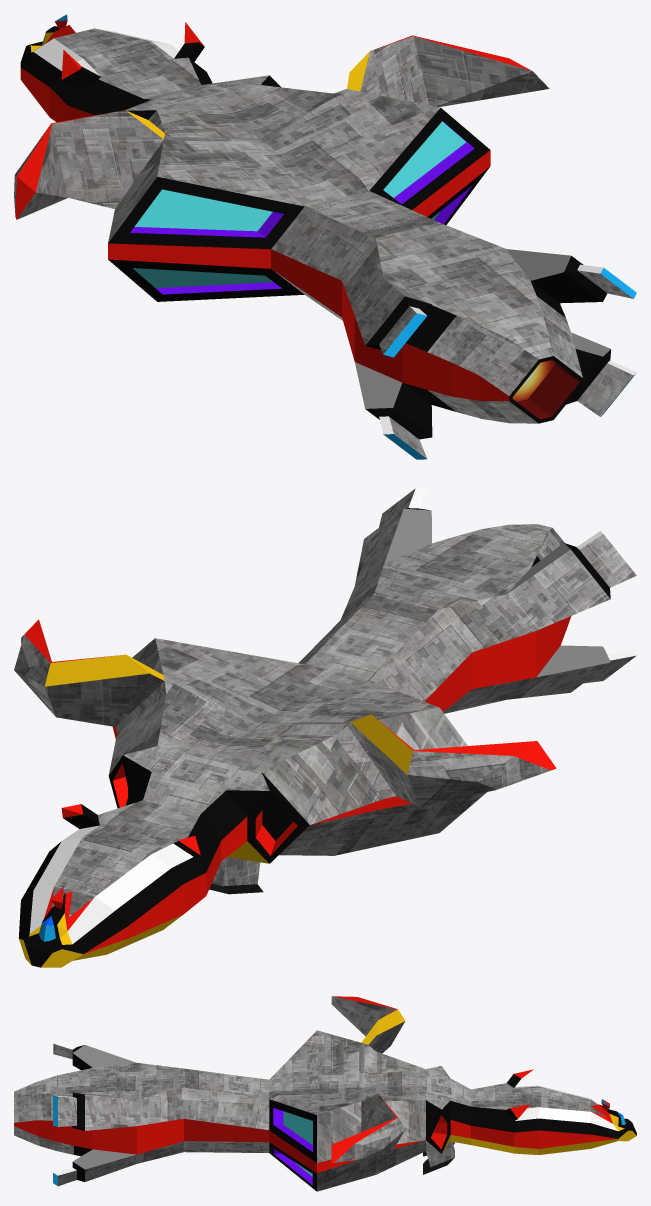
Rendered from Mothership 1.fbx.
3 views of the same model, one above another, from view 1: azimuth 30°, elevation 25°; view 2: azimuth 150°, elevation 25°; view 3: azimuth 270°, elevation 25° (orthographic). The views are drawn at different scales.
Visible parts, largest first — view 1: Mship; view 2: Mship; view 3: Mship.
Boxes of the visible parts, x1,y1,x2,y2 form: Mship: [14, 14, 636, 459]; Mship: [14, 488, 636, 967]; Mship: [14, 996, 636, 1191].
Size of the model in its own units: 1422 by 428 by 2348.
